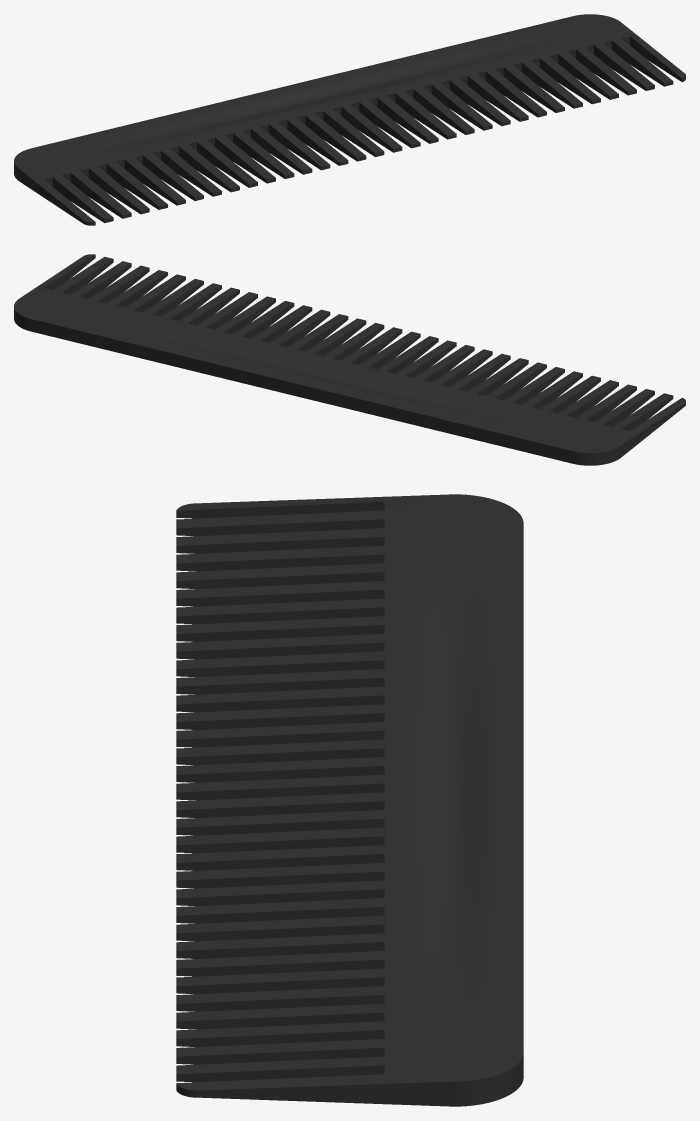
File: bath3.glb
3 renders of one model, top to bottom at view 1: azimuth 30°, elevation 25°; view 2: azimuth 150°, elevation 25°; view 3: azimuth 270°, elevation 25°, orthographic. The views are drawn at different scales.
Visible parts, largest first — view 1: node_id332; view 2: node_id332; view 3: node_id332.
Part boxes in pixels (<box>): node_id332: <box>14,14,685,225</box>; node_id332: <box>14,254,685,465</box>; node_id332: <box>176,494,523,1106</box>.
Bounding box in the file's own units: 0.512 × 0.0102 × 0.128.
1 material, 1 textured.
